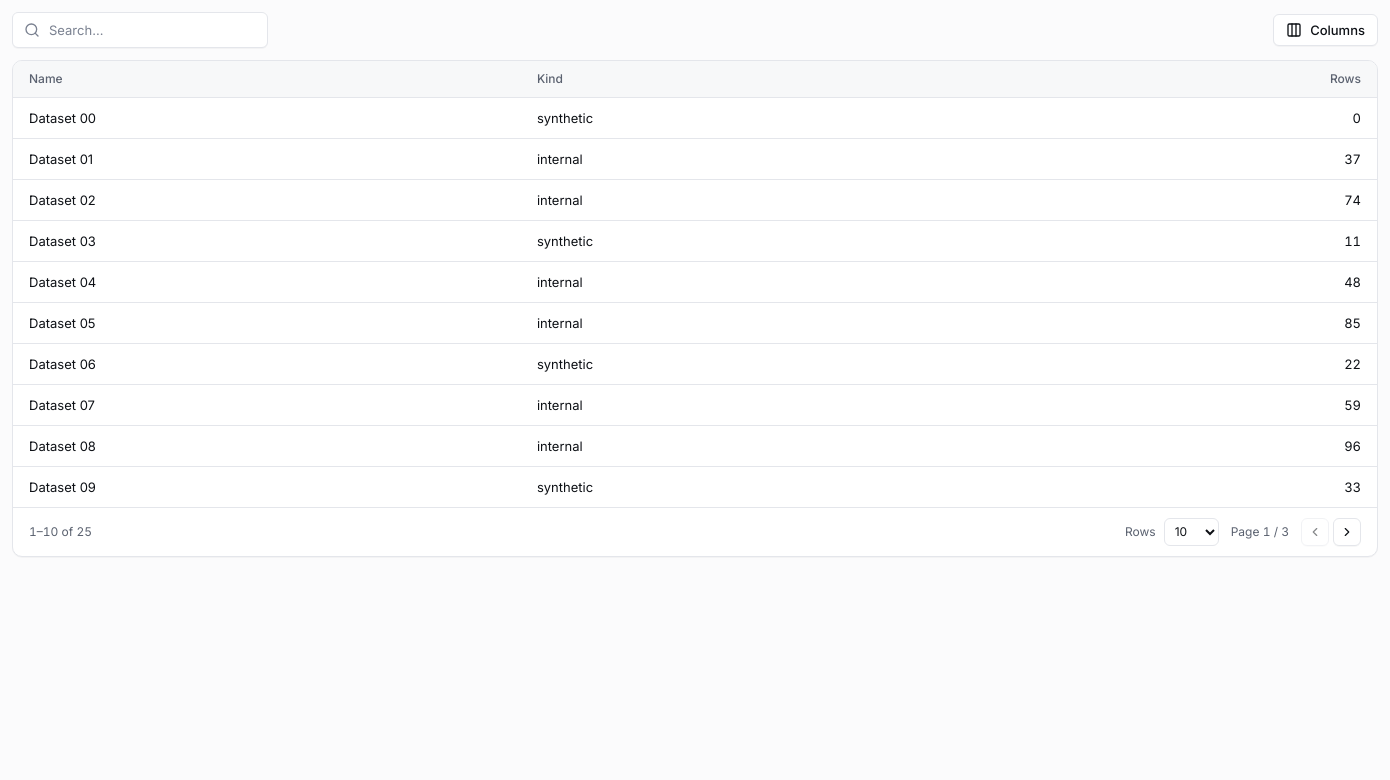
Test: DataTable › renders headers and paginates rows
Check: the column heading "Name" is shown, box [13,61,521,97]
Check: the text "1–10 of 25" is shown, box [29,524,92,540]
Click the button named "Next page". click: click(1347, 532)
box: [1333,518,1361,546]
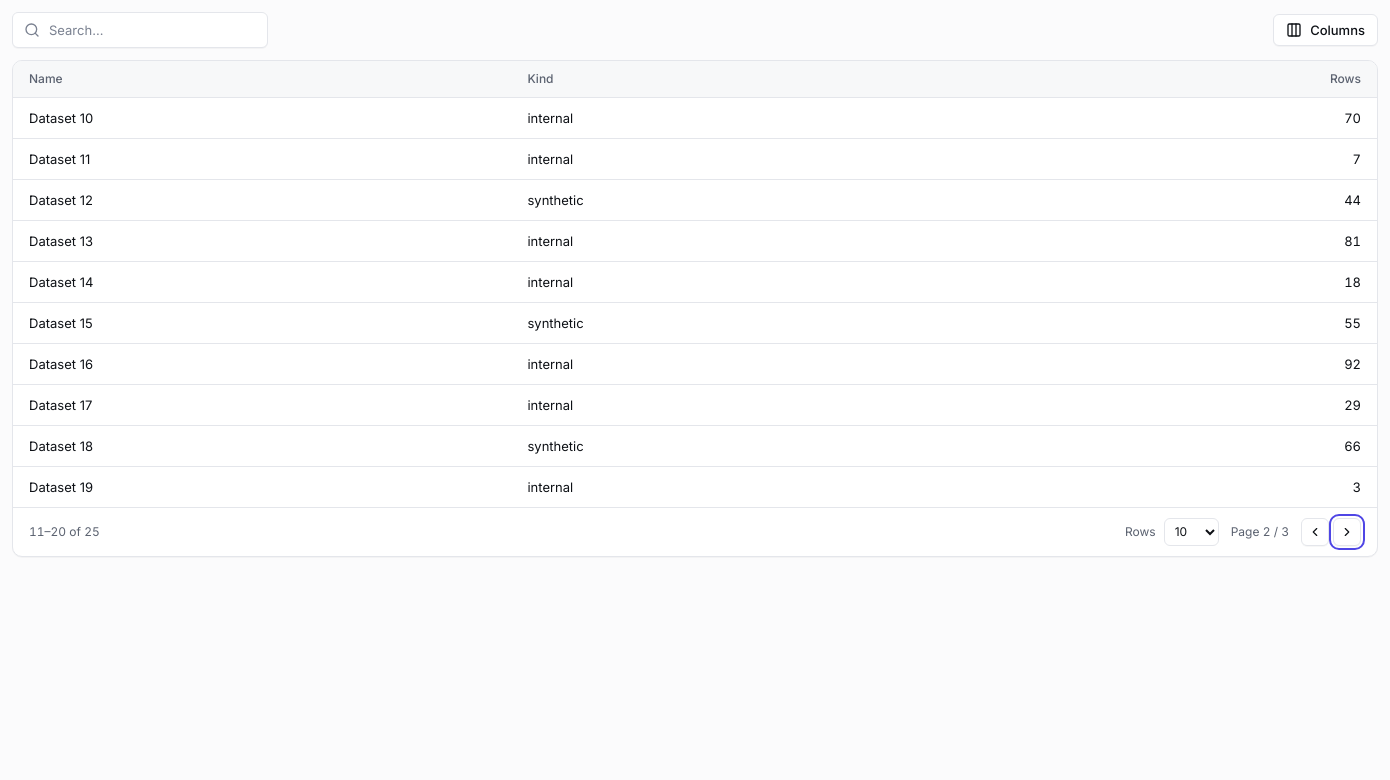
Check: the text "11–20 of 25" is shown, box [29,524,100,540]
Click the button named "Next page". click: click(1347, 532)
box: [1333,518,1361,546]
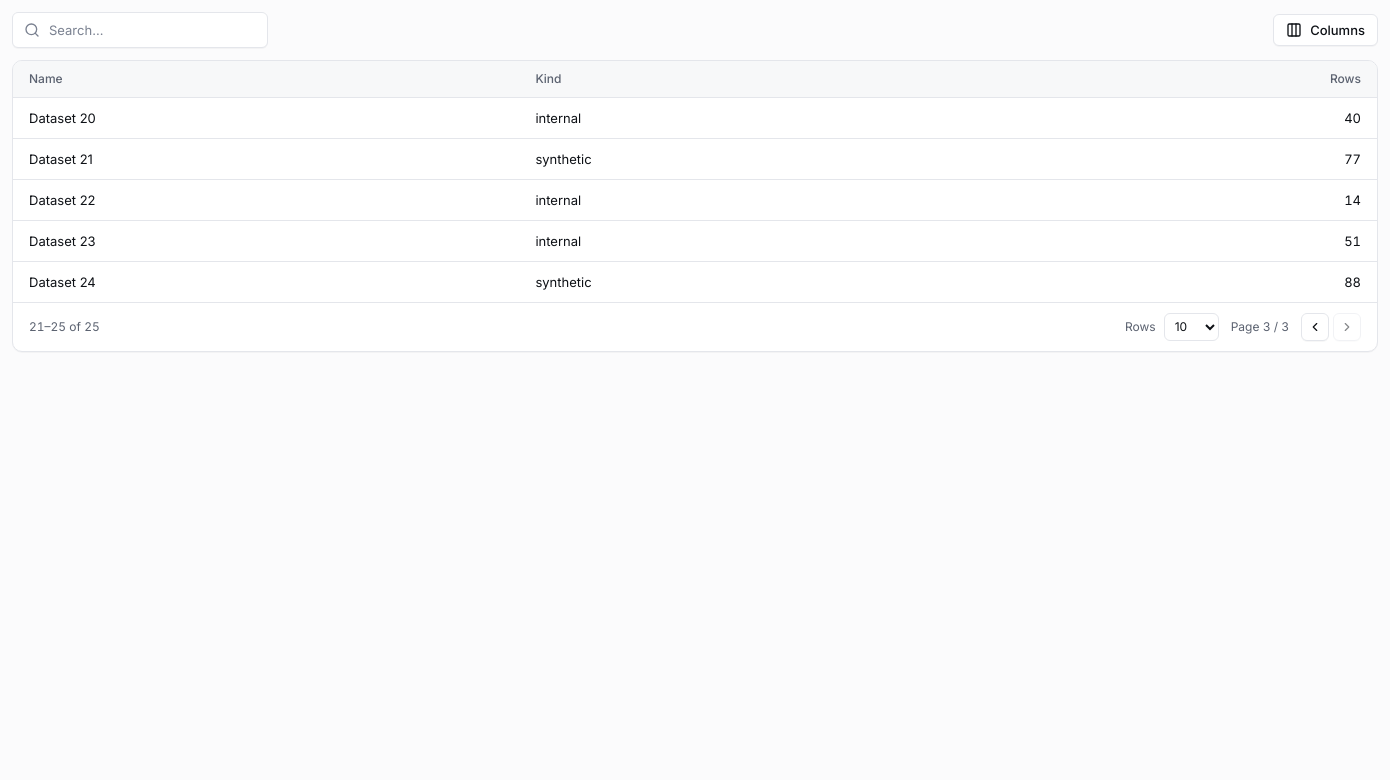
Check: the button named "Next page" is disabled, box [1333,312,1361,340]
